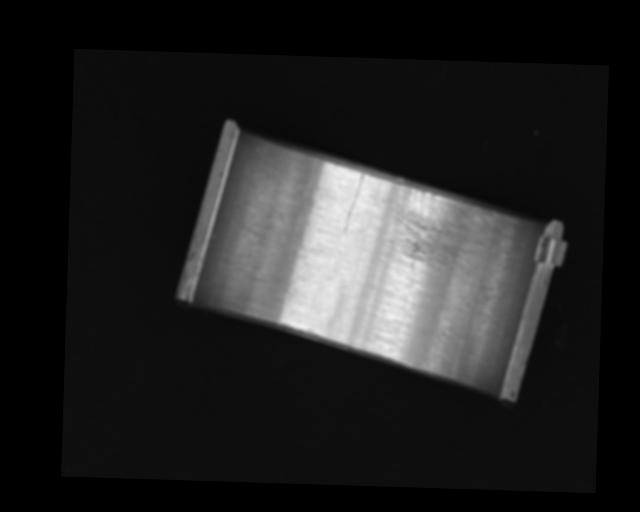nick: (210, 222, 253, 308), (342, 173, 364, 232)
scratch: (390, 182, 497, 272)
